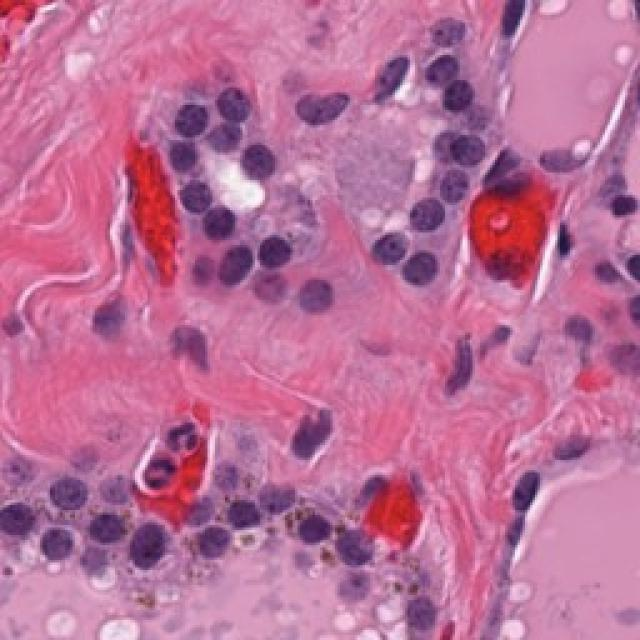normal: (105, 508, 193, 587), (317, 512, 391, 601), (287, 73, 357, 131), (439, 122, 503, 184), (238, 124, 295, 193), (363, 213, 414, 290), (157, 120, 222, 180), (43, 465, 98, 531), (154, 172, 218, 228), (188, 503, 232, 581), (36, 519, 96, 576), (189, 181, 237, 251), (425, 66, 487, 119), (218, 497, 265, 566), (239, 216, 287, 275), (3, 491, 49, 549), (206, 78, 257, 130), (262, 470, 303, 527), (410, 202, 446, 243)
